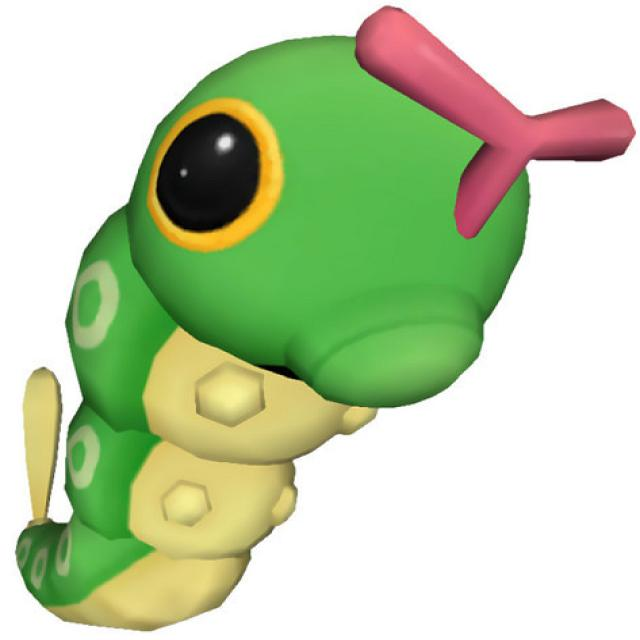Caterpie: (19, 16, 548, 622)
